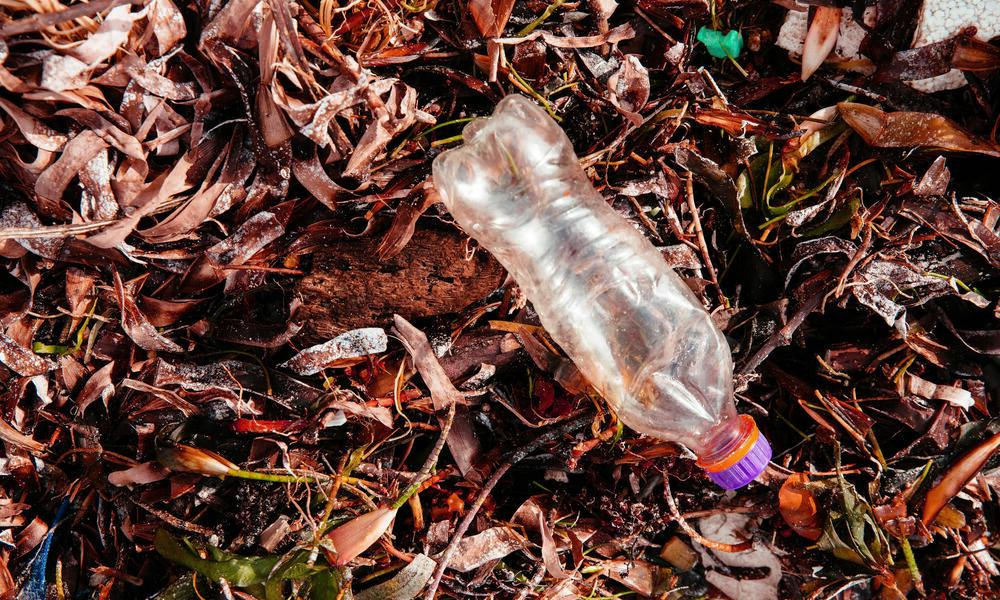Plastic: (384, 69, 796, 510)
